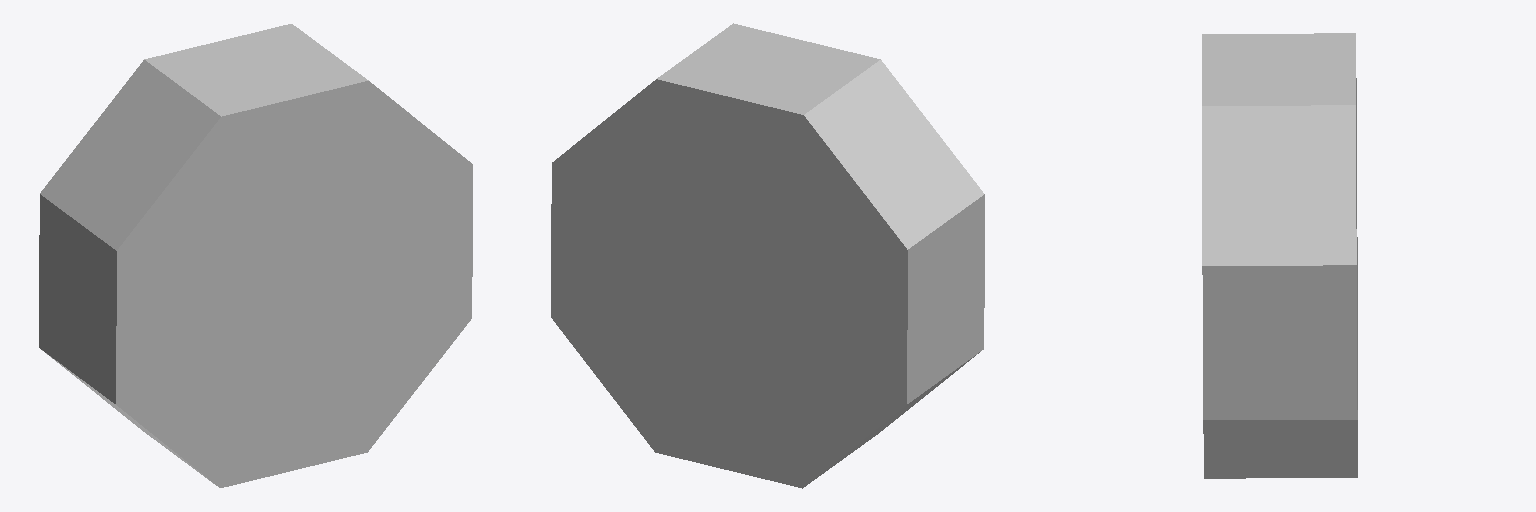
The model's file is mini_hakkero.obj.
3 views of the same model, side by side, from view 1: azimuth 30°, elevation 25°; view 2: azimuth 150°, elevation 25°; view 3: azimuth 270°, elevation 25° (orthographic).
Visible parts, largest first — view 1: 001; view 2: 001; view 3: 001.
Boxes of the visible parts, x1,y1,x2,y2 form: 001: [39, 24, 472, 487]; 001: [551, 23, 984, 488]; 001: [1202, 33, 1357, 478].
Bounding box in the file's own units: 0.5264 × 0.5275 × 0.2002.